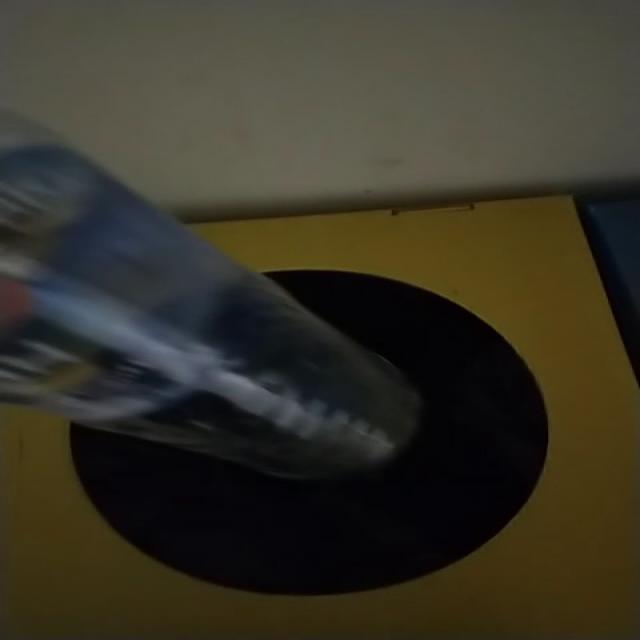plastic: (0, 144, 420, 480)
